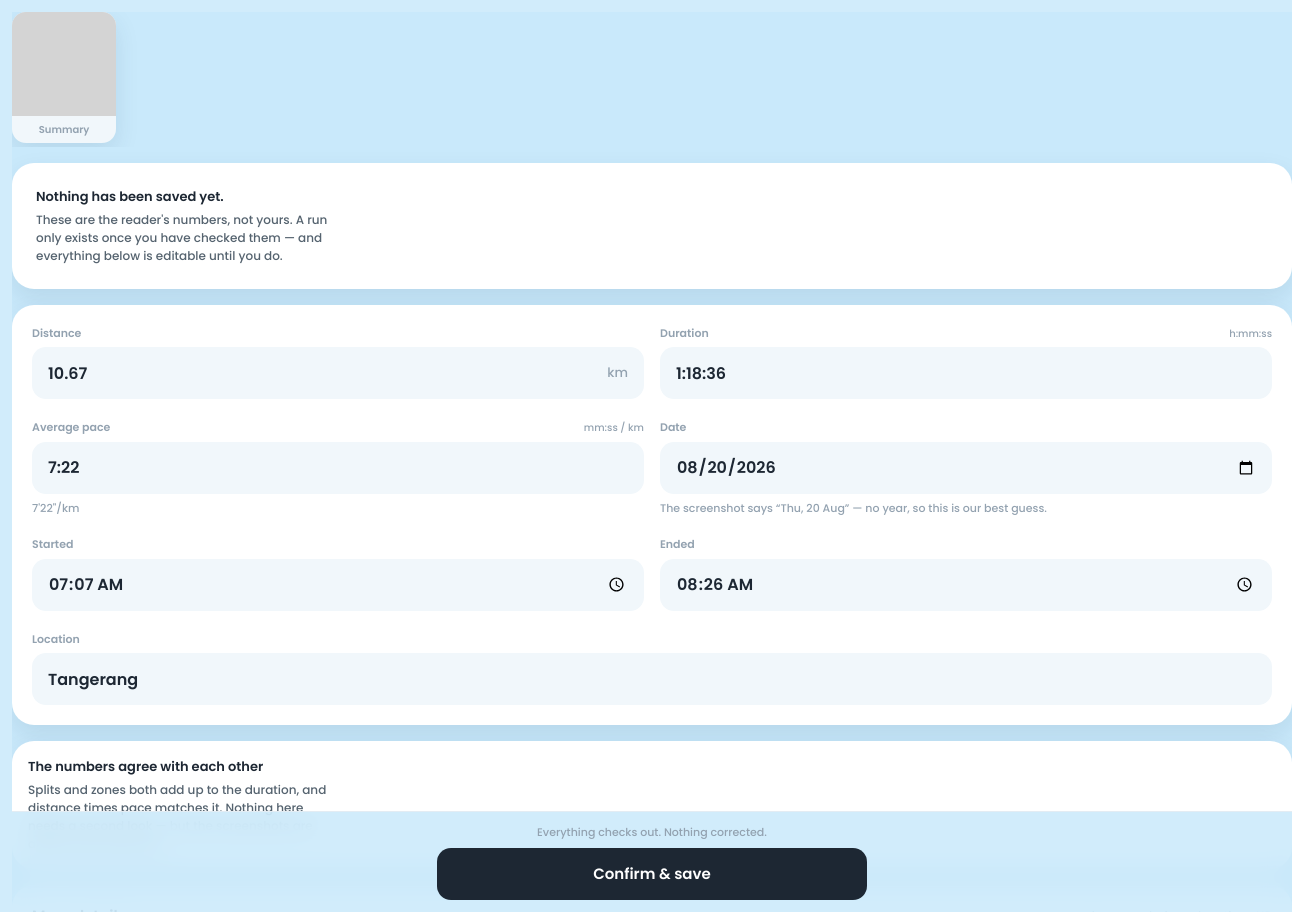
Scenario: ReviewScreen — a keystroke re-runs the checks › a misread pace flips the banner, flags all three CHK-3 inputs, and still allows the save
Type "802" into the field named "Average pace, minutes and seconds per kilometre". click: (338, 468)
box: [32, 442, 644, 494]
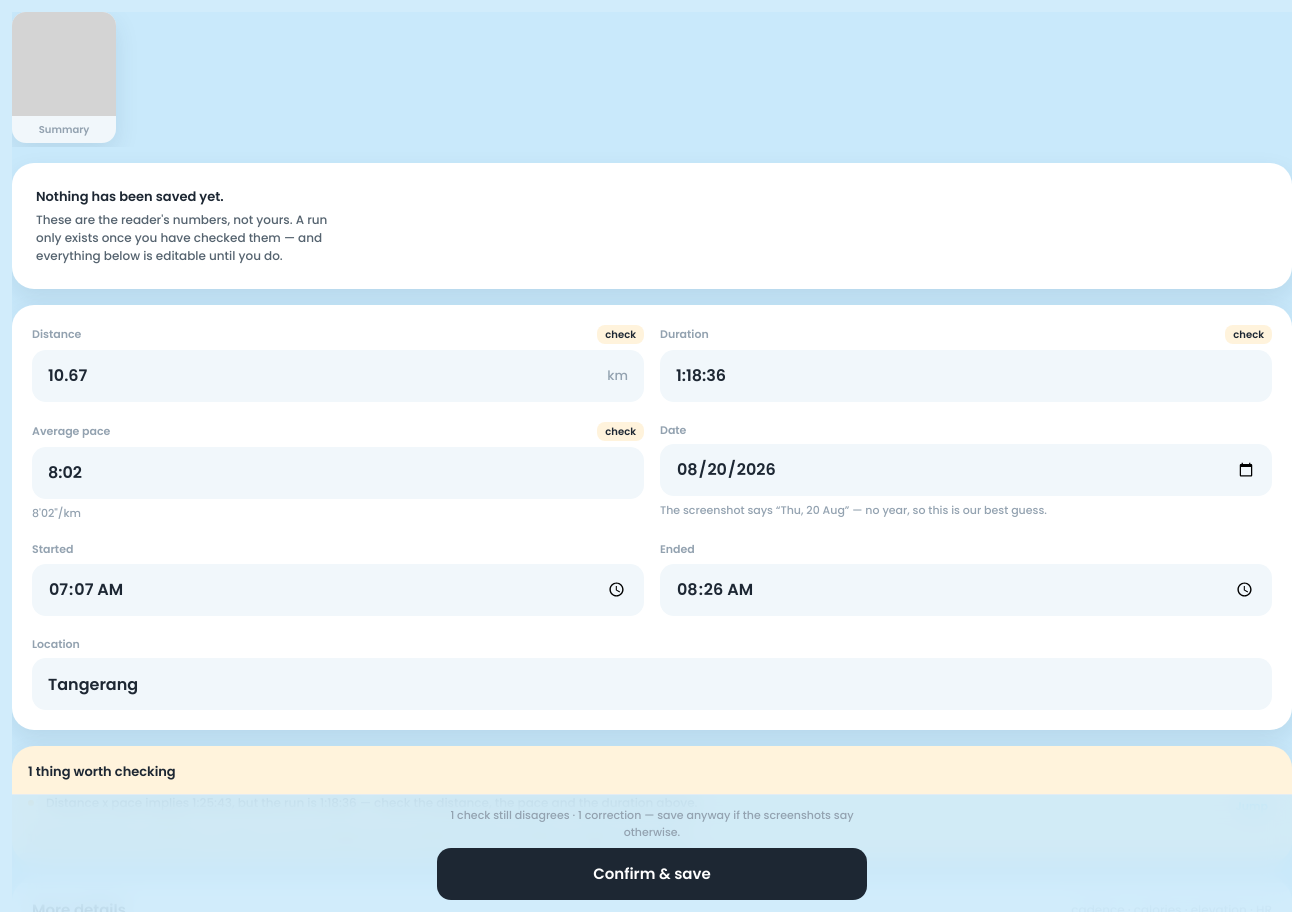
Now the message shows "1 thing worth checking", box [28, 762, 176, 781]
Now the message shows "Distance x pace implies", box [46, 794, 698, 810]
Now the text "check" is shown 3 times, box [597, 324, 644, 344]; [1225, 324, 1272, 344]; [597, 422, 644, 440]
